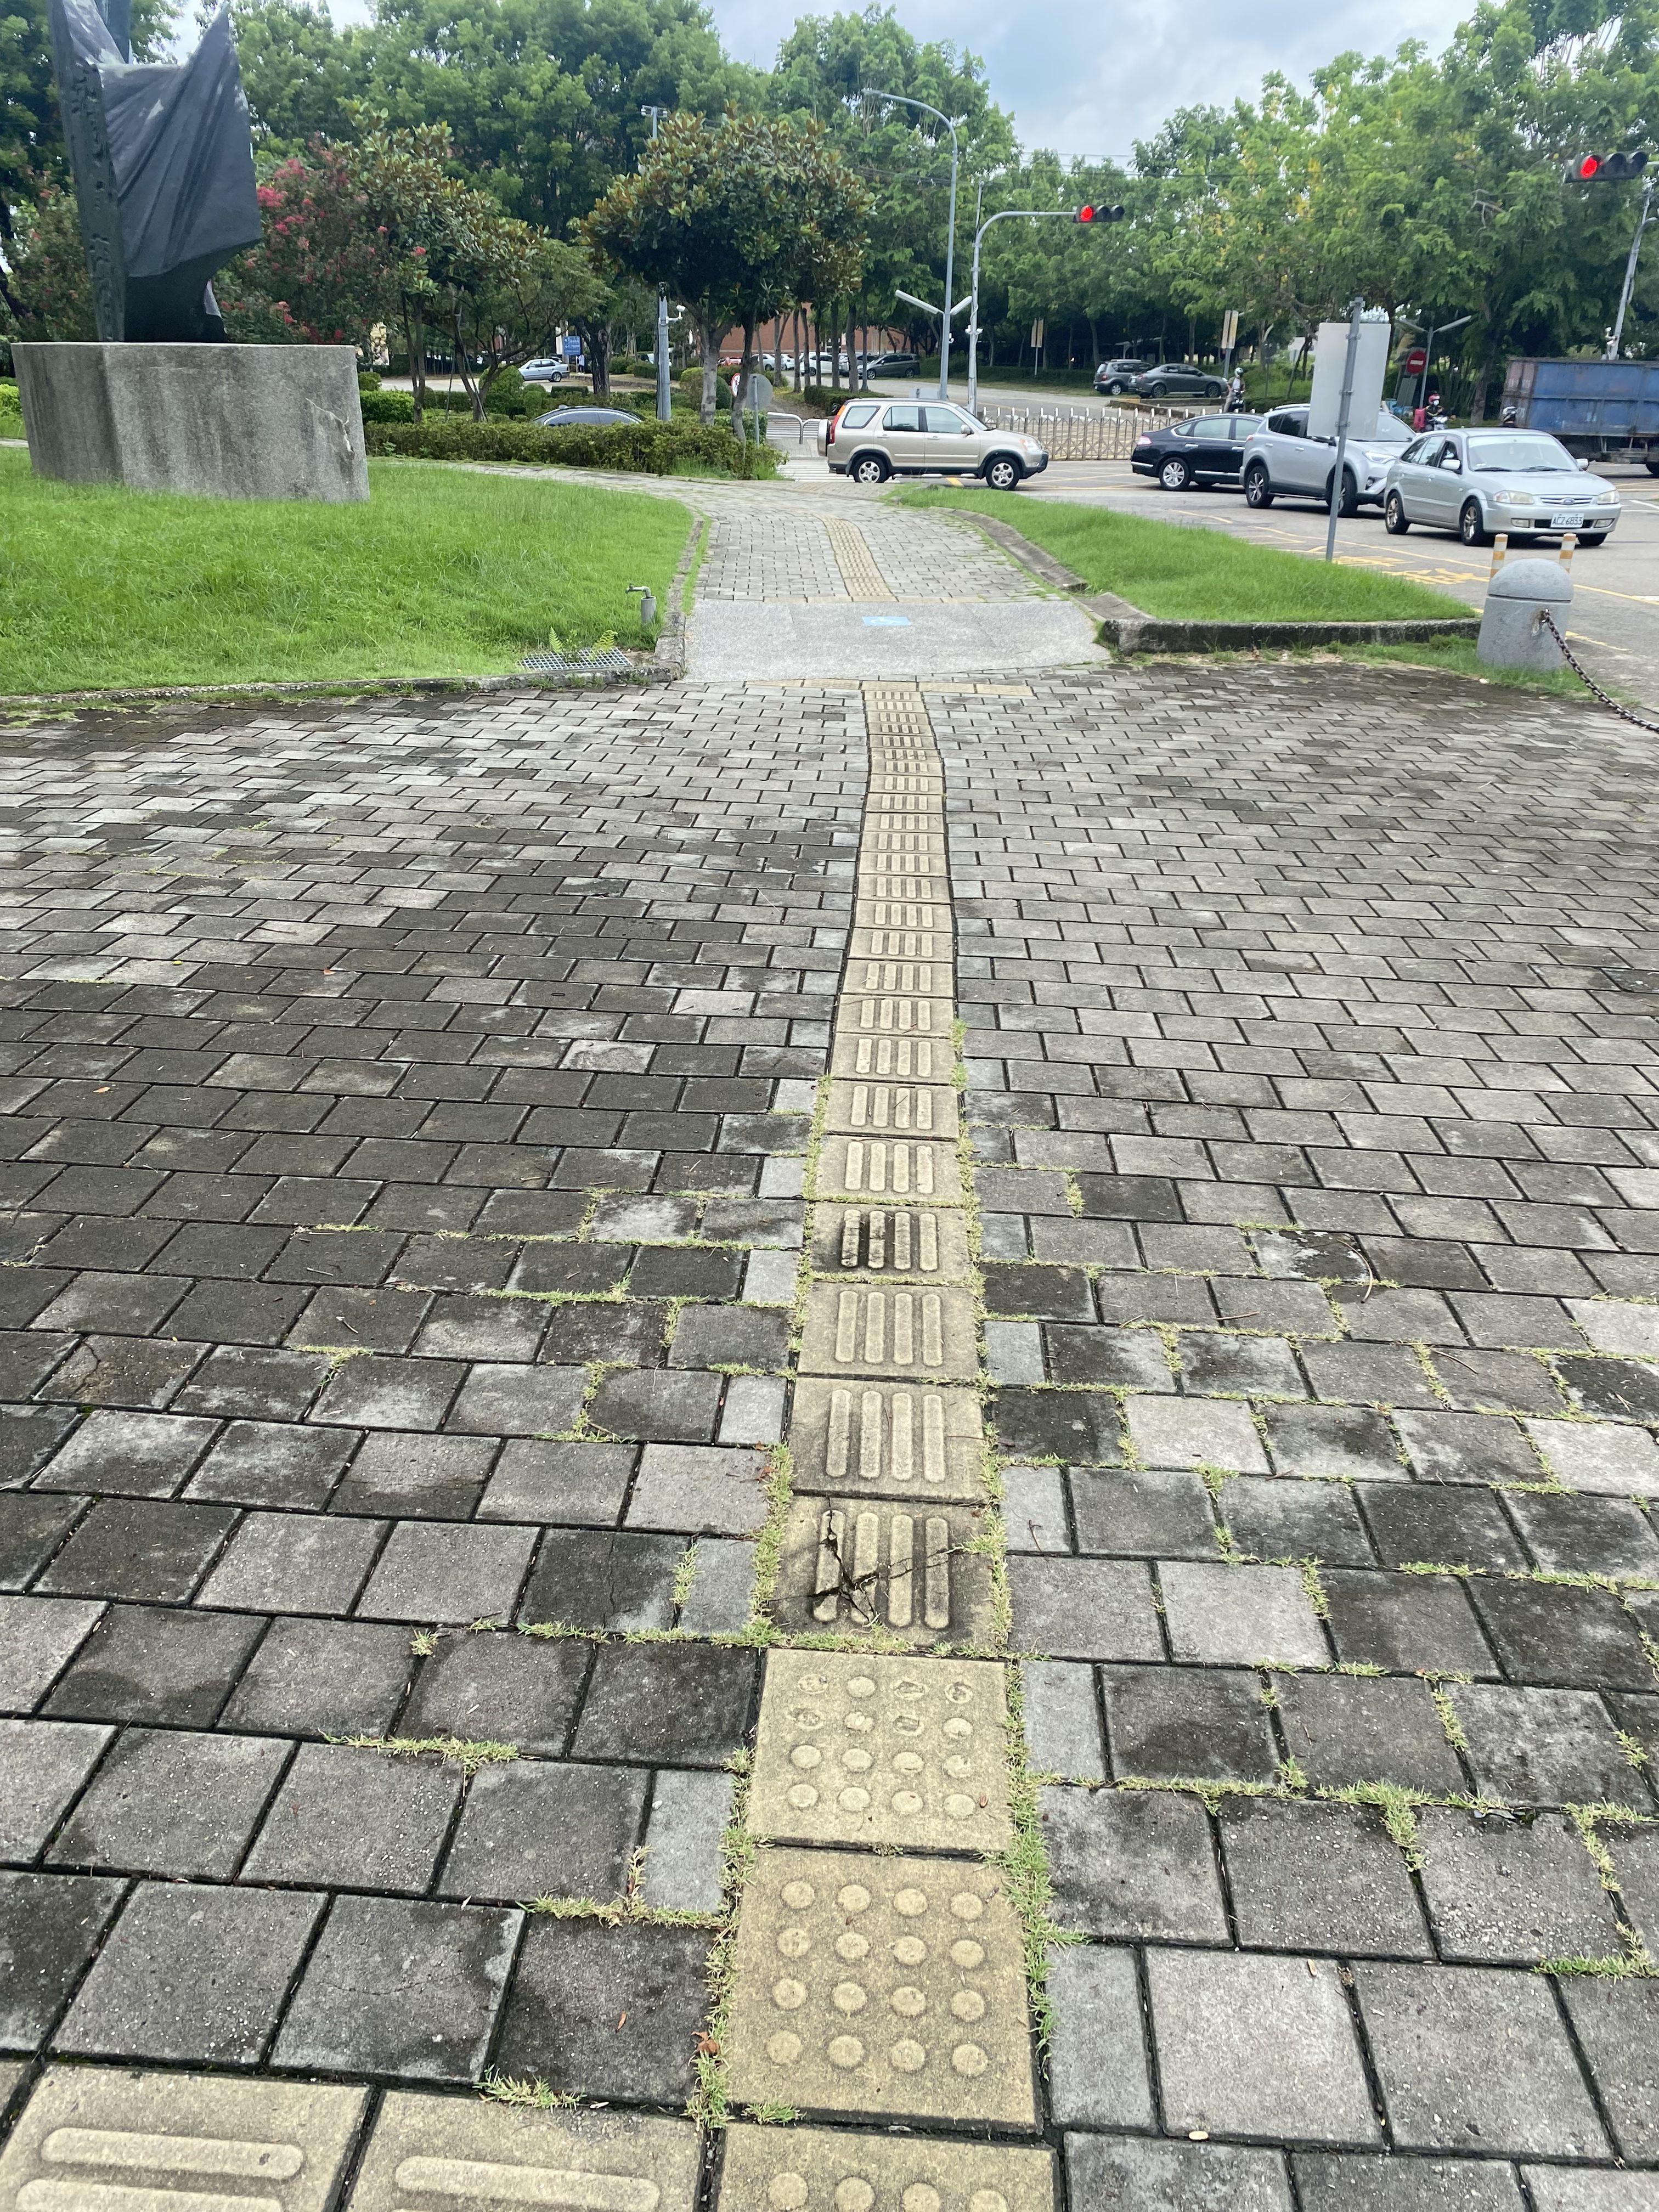0: (537, 437, 1222, 777)
sidewalk: (5, 672, 1659, 2212)
